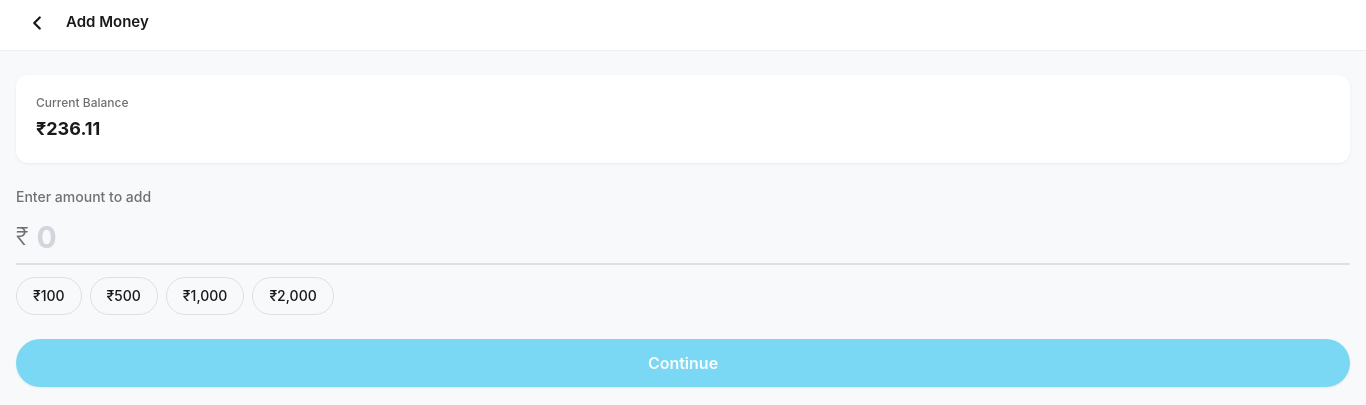
AddMoneyPage › Continue button enables when amount is entered
Type "100" into the field with placeholder "0".
click(693, 237); type("100")  # box [36, 219, 1350, 255]
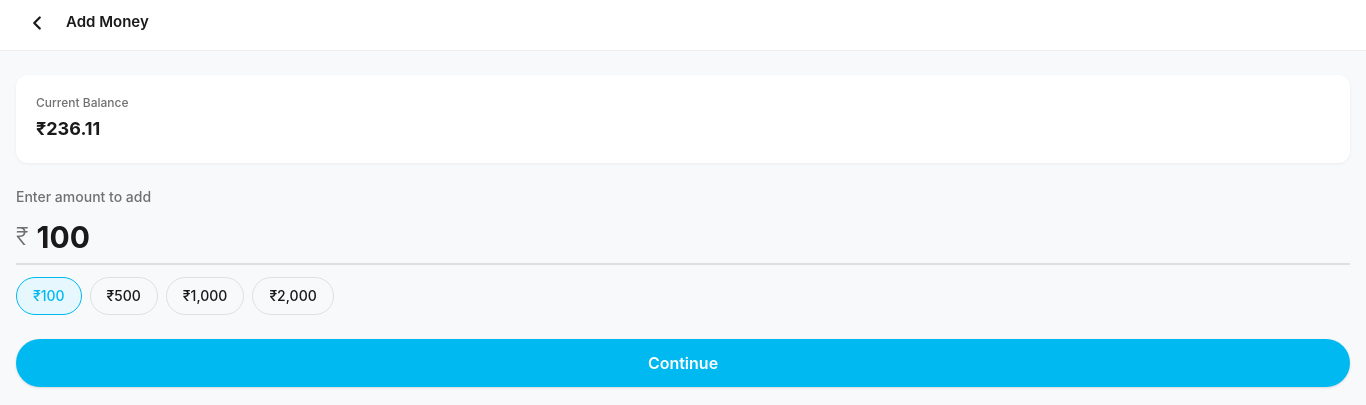
Check: the button "Continue" is enabled, box [16, 339, 1350, 387]
